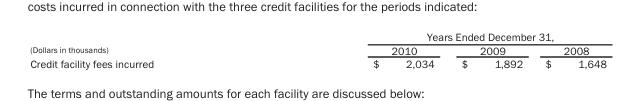table: (29, 29, 605, 70)
table column: (29, 29, 262, 70), (262, 29, 447, 70), (447, 29, 533, 70), (533, 29, 605, 70)
table column header: (29, 29, 605, 56)
table row: (29, 29, 605, 43), (29, 56, 605, 70), (29, 43, 605, 56)
table spanning cell: (29, 29, 262, 56), (262, 29, 605, 43)
